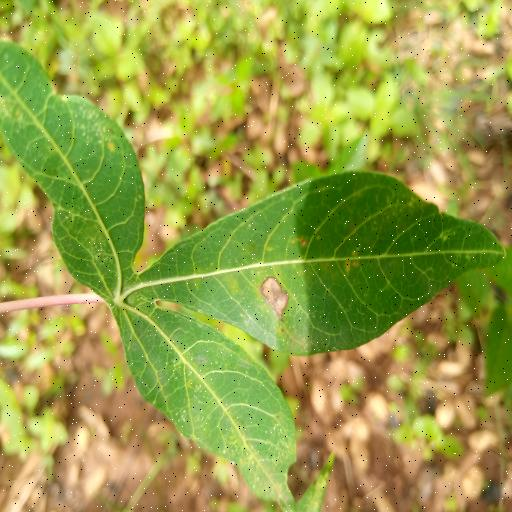Cassava_Brown_Leaf_Spot: (0, 31, 505, 512)
